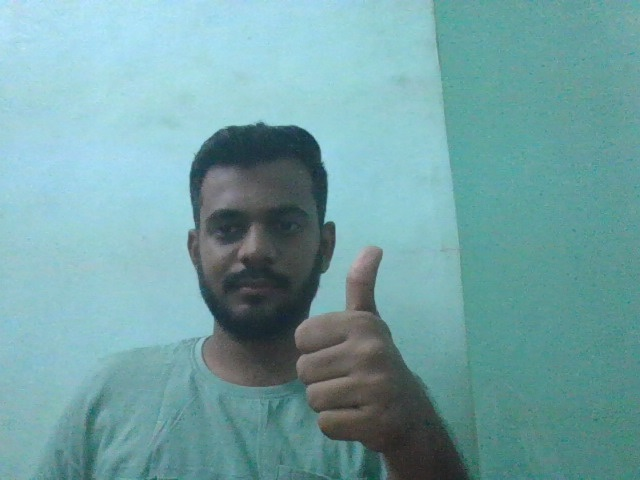yes: (291, 237, 424, 454)
